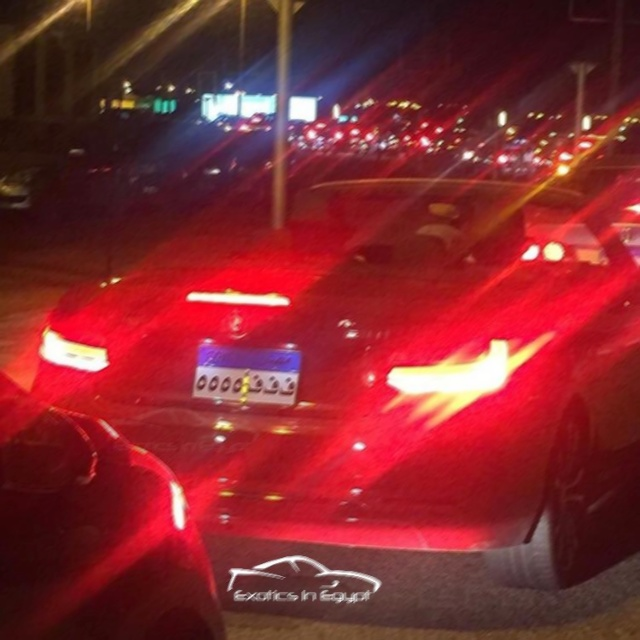License Plate: (190, 340, 305, 410)
